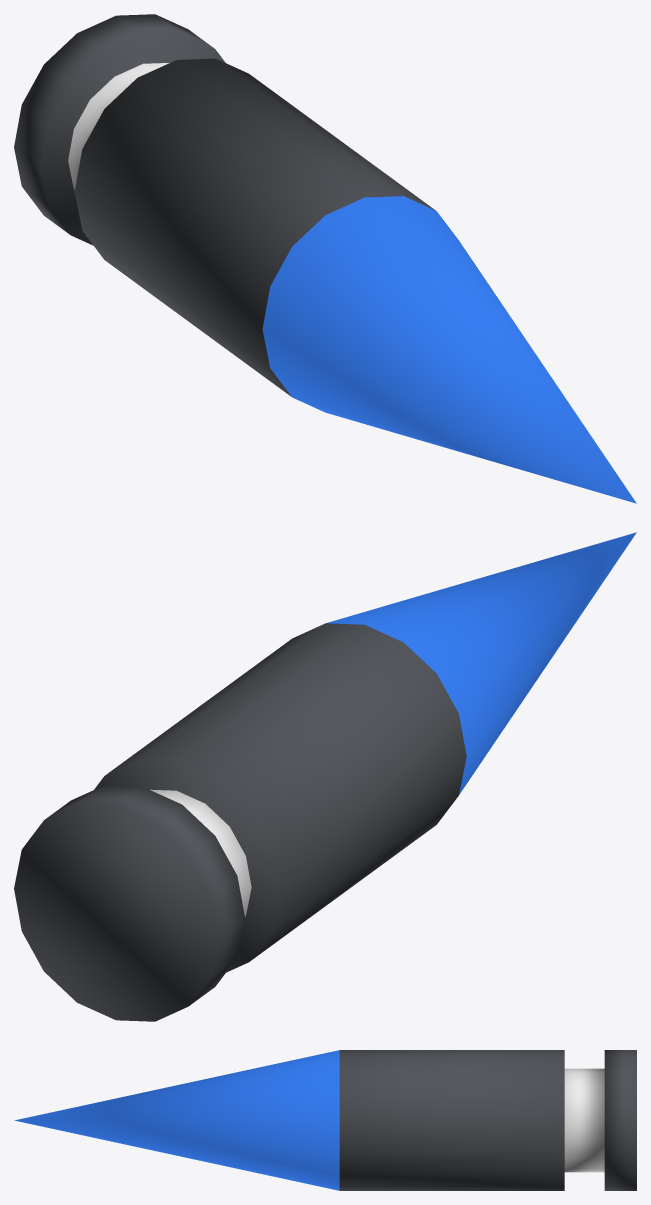
File: 2e3106cc-7edf-42f7-956b-6cc0861f06ab.glb
The picture shows the model from 3 angles, top to bottom: view 1: azimuth 30°, elevation 25°; view 2: azimuth 150°, elevation 25°; view 3: azimuth 270°, elevation 25°; orthographic projection. The views are drawn at different scales.
Parts seen in each view (by area): view 1: Cylinder; view 2: Cylinder; view 3: Cylinder.
Part boxes in pixels (x1,y1,x2,y2): Cylinder: (14, 14, 636, 503); Cylinder: (14, 532, 636, 1021); Cylinder: (14, 1050, 636, 1190).
Bounding box in the file's own units: 0.0145 × 0.0145 × 0.0641.
2 materials, 2 textured.
